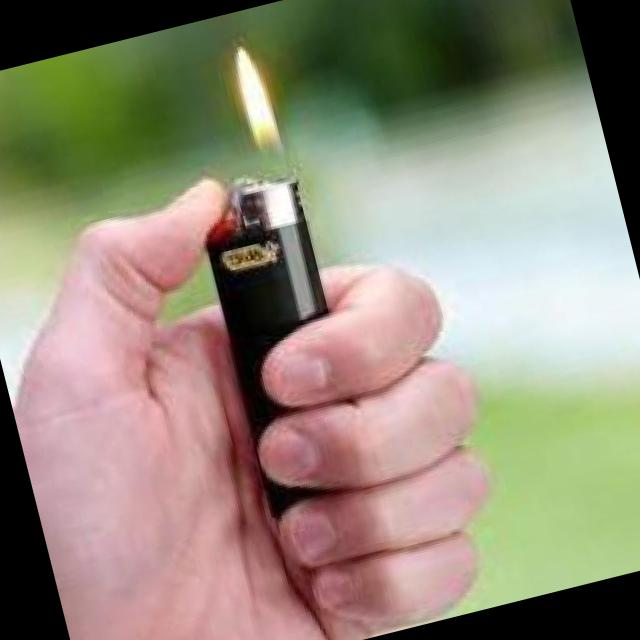Fire: (229, 42, 286, 170)
